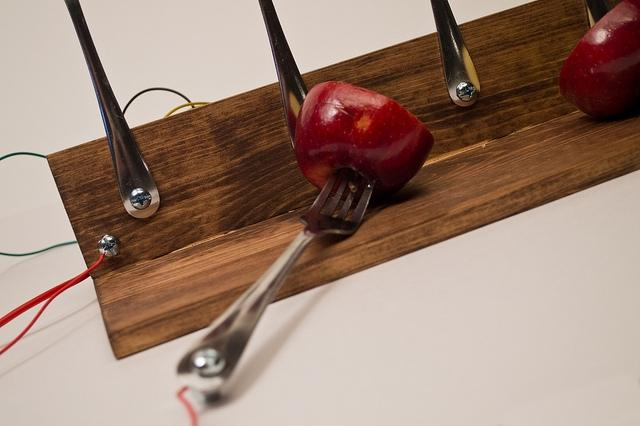apple: (294, 81, 435, 206), (558, 0, 640, 120)
